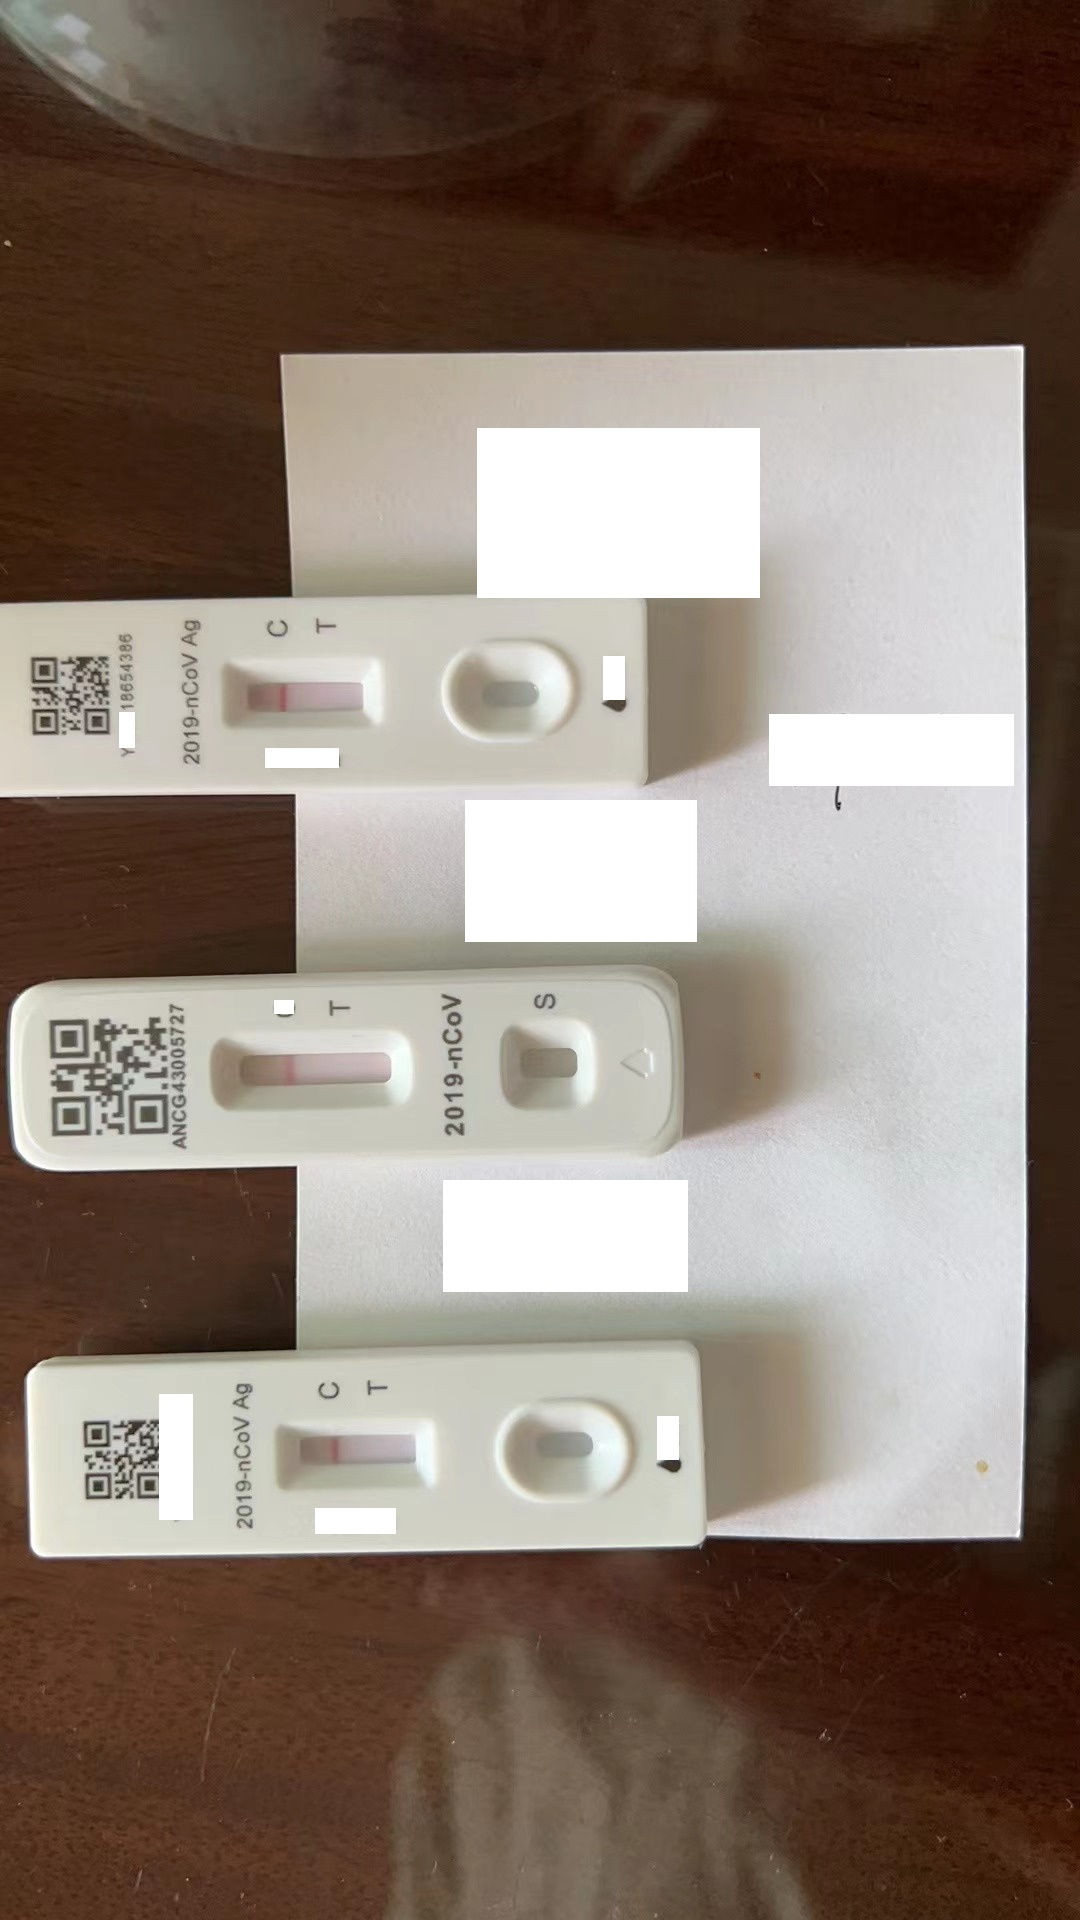negative: (200, 1030, 418, 1112), (218, 659, 392, 729), (272, 1419, 438, 1487)
